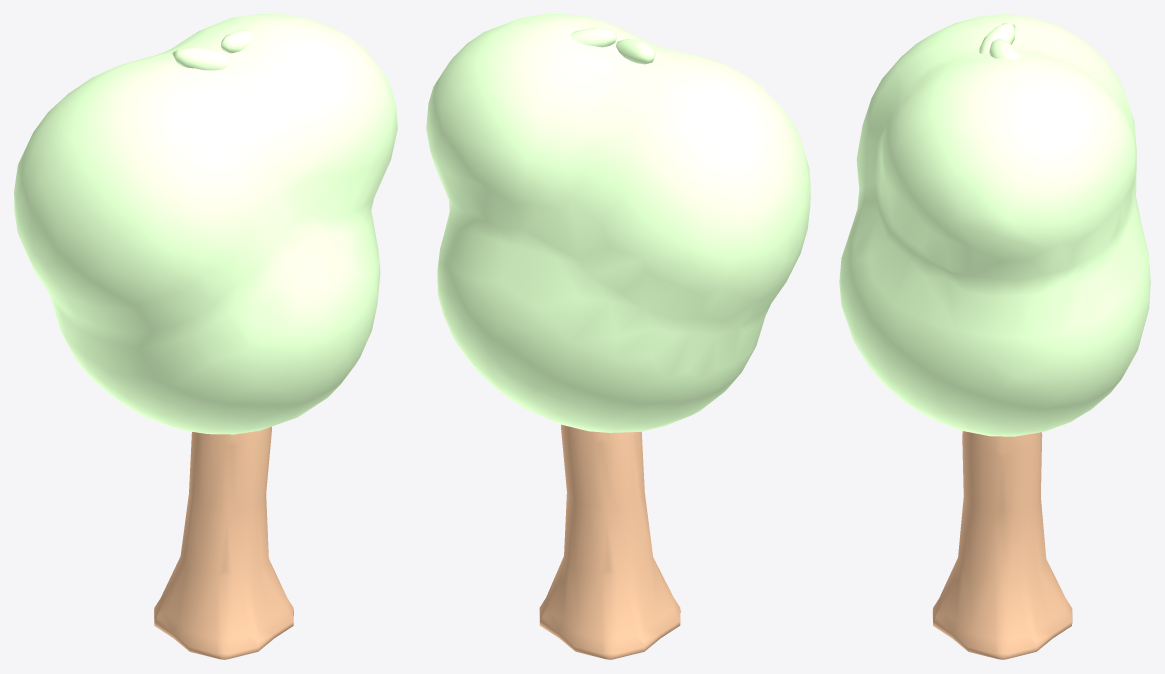
File: tree-thin.glb
The picture shows the model from 3 angles, left to right: view 1: azimuth 30°, elevation 25°; view 2: azimuth 150°, elevation 25°; view 3: azimuth 270°, elevation 25°; orthographic projection.
Parts seen in each view (by area): view 1: tree-thin; view 2: tree-thin; view 3: tree-thin.
Boxes of the visible parts, x1=… form: tree-thin: x1=14, y1=14, x2=397, y2=659; tree-thin: x1=426, y1=14, x2=810, y2=659; tree-thin: x1=839, y1=14, x2=1150, y2=659.
Bounding box in the file's own units: 2.88 × 4.65 × 2.22.
